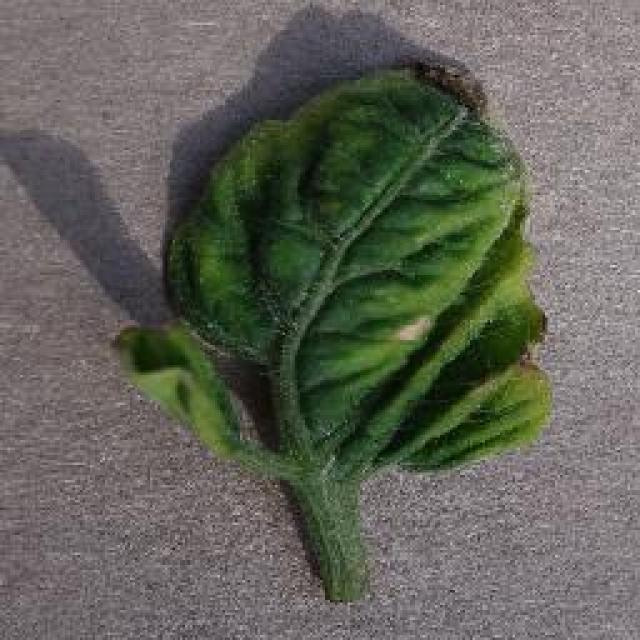Tomato yellow virus leaf: (114, 56, 558, 476)
